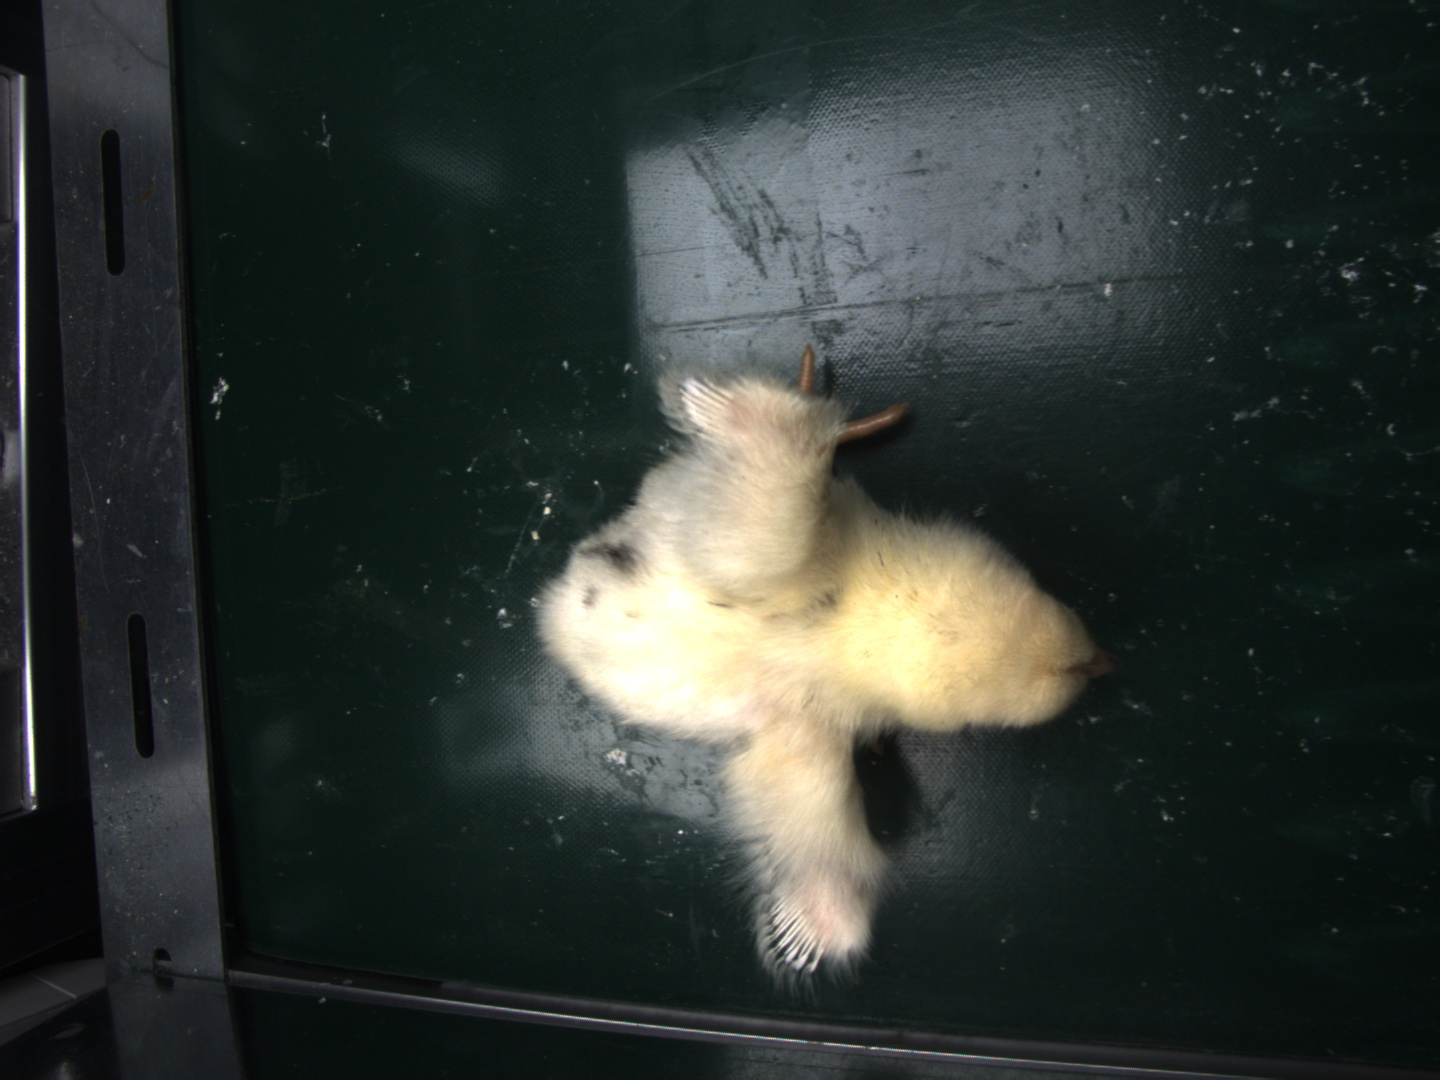male: (766, 900, 825, 967), (691, 379, 734, 433)
